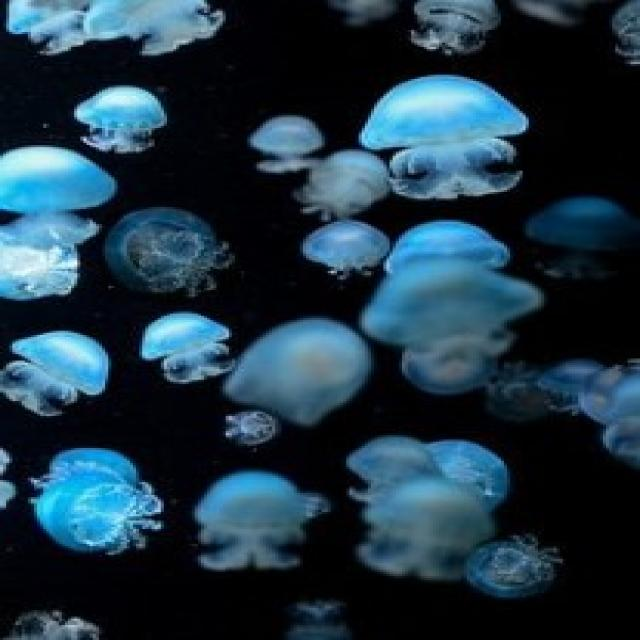Jellyfish: (364, 76, 532, 202), (377, 270, 532, 373), (0, 143, 132, 239), (356, 482, 475, 584), (200, 466, 310, 575), (33, 486, 181, 560), (0, 328, 121, 406), (531, 195, 633, 275), (148, 302, 248, 382), (388, 215, 512, 276), (93, 0, 231, 54), (86, 78, 172, 160), (404, 0, 508, 61), (332, 419, 441, 475), (238, 93, 314, 168), (307, 219, 394, 283), (0, 0, 80, 59), (300, 155, 376, 209), (27, 447, 151, 477)
